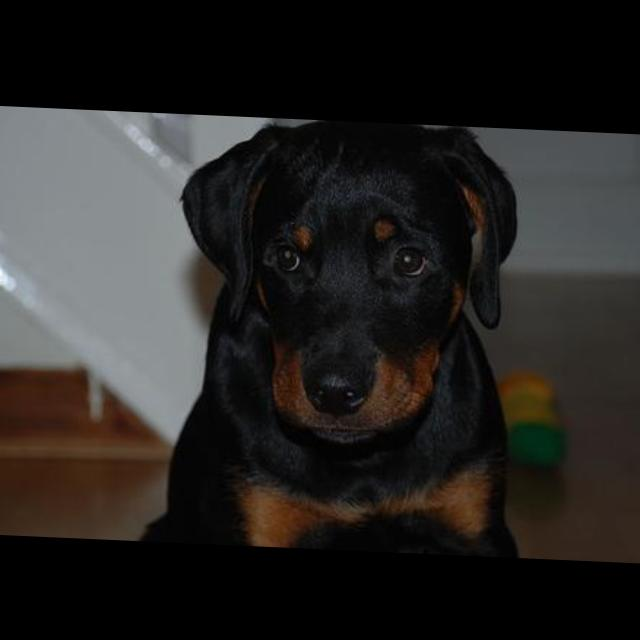rottweiler: (121, 111, 524, 554)
